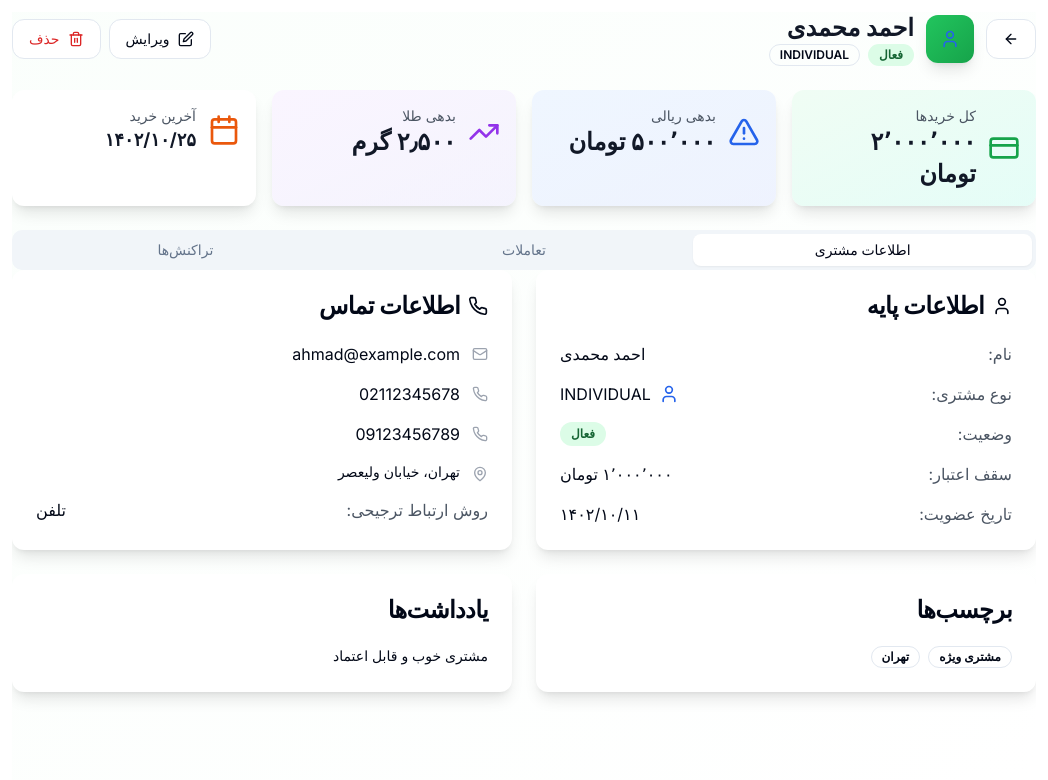
Test: CustomerProfile › shows transactions placeholder
# Switch to transactions tab
Click the button "تراکنش‌ها". click: (185, 250)
box: [16, 234, 355, 266]
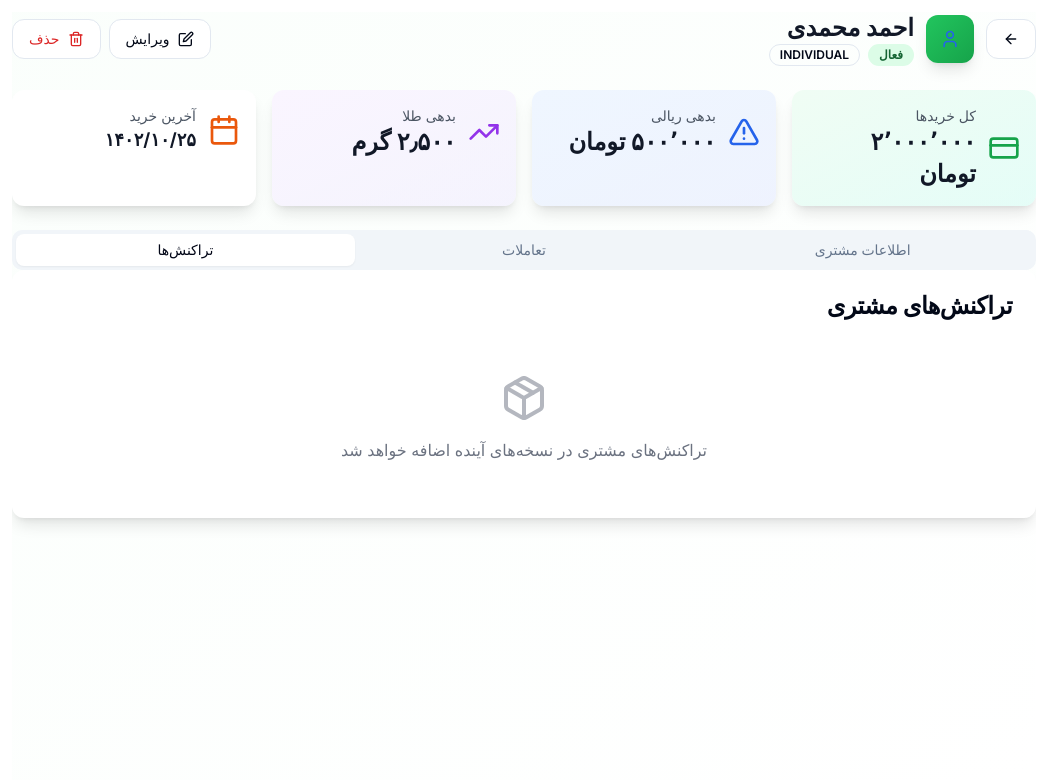
Now the heading "تراکنش‌های مشتری" is shown, box [827, 291, 1012, 320]
